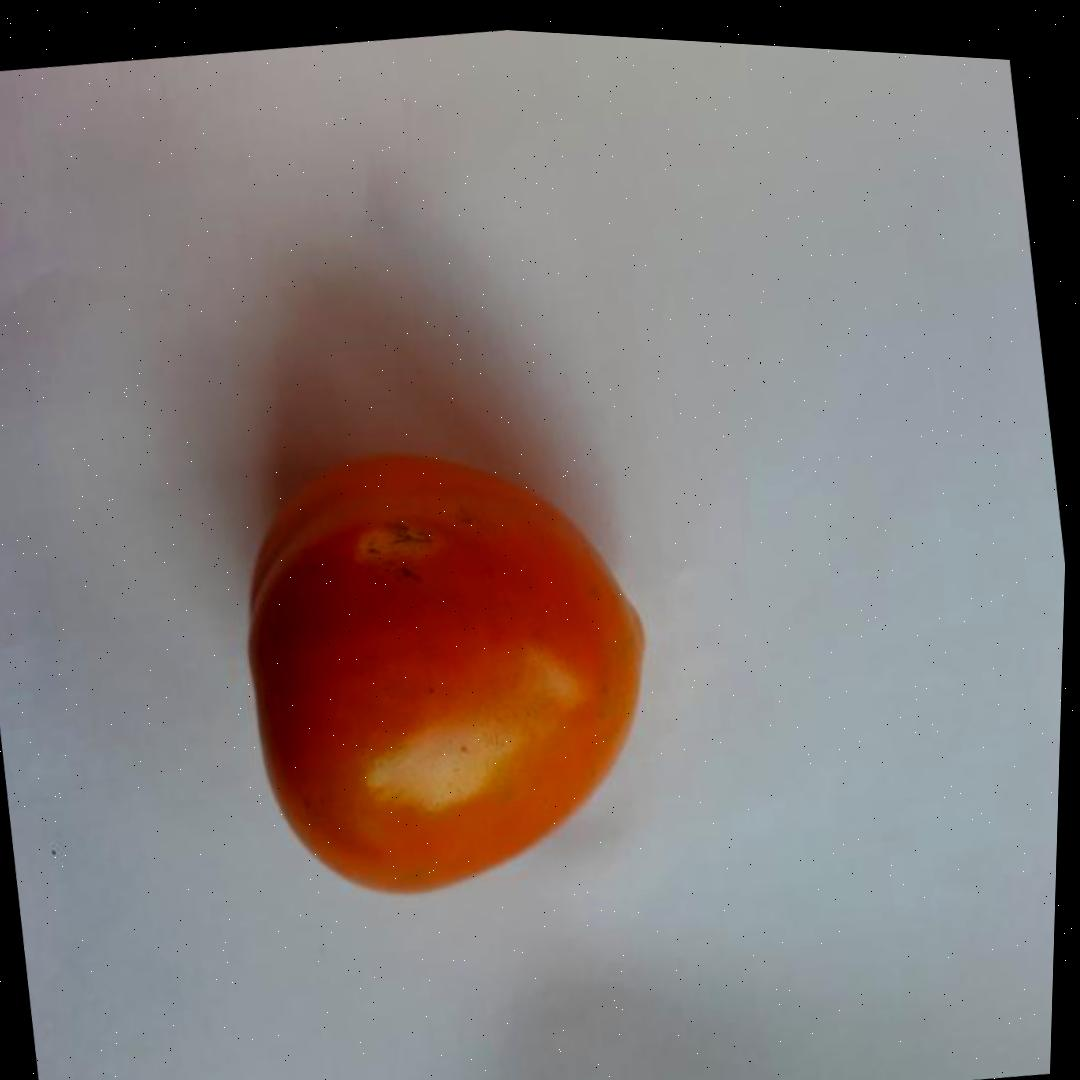setengah_matang: (213, 409, 684, 929)
